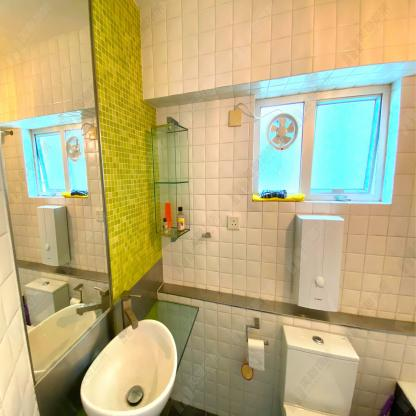Exhaust Fan: (266, 110, 300, 156)
Toilet: (278, 326, 360, 416)
Toilet Sink: (80, 319, 176, 415)
Water Heater: (293, 215, 344, 312)
